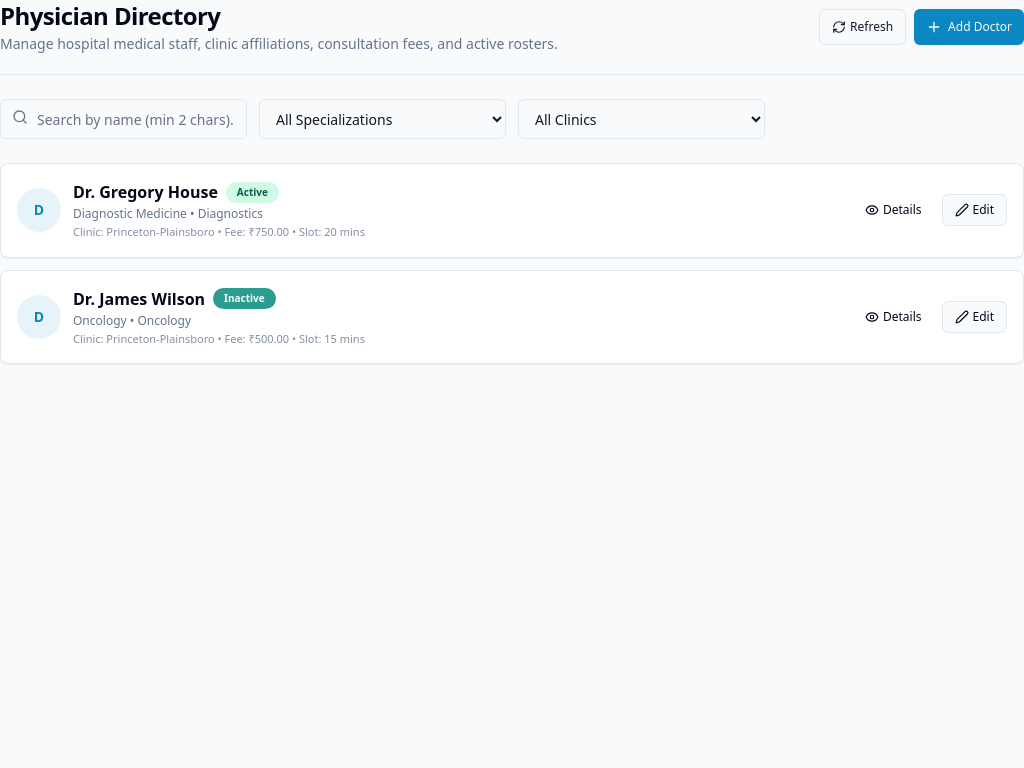
Test: DoctorsPage Management › opens provision doctor dialog with required form fields
Click the button with aria-label "add new doctor".
click(969, 27)  # box x1=914 y1=9 x2=1023 y2=45
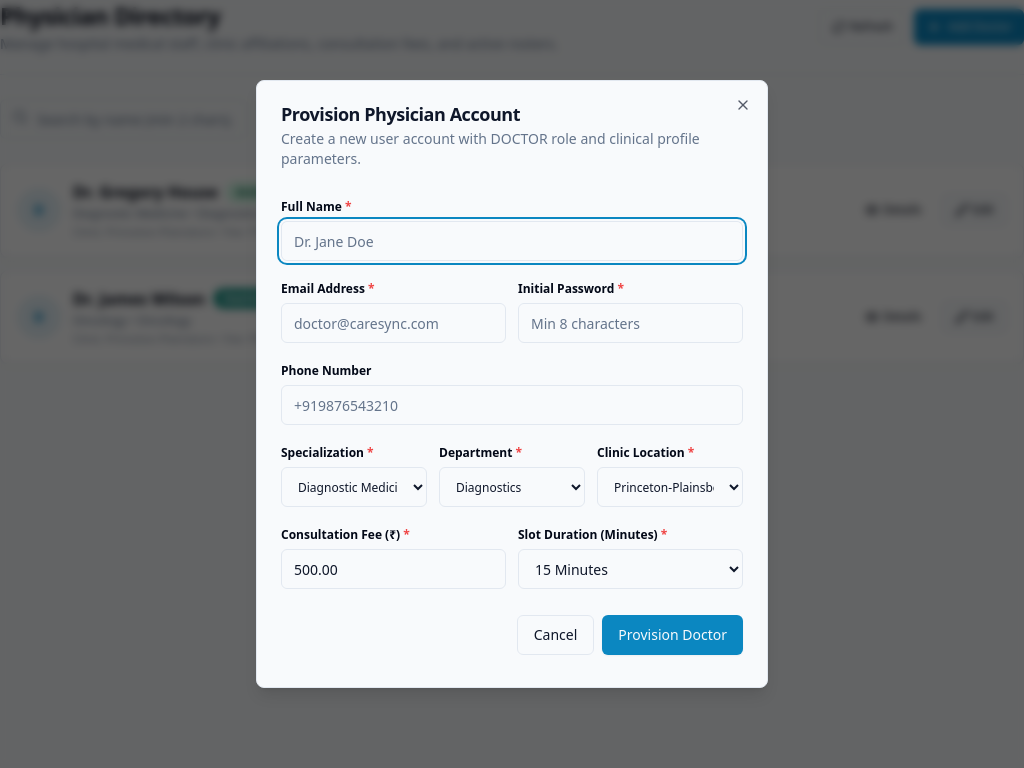
Now the heading "Provision Physician Account" is shown, box x1=281 y1=102 x2=520 y2=126
Now the field with placeholder "Dr. Jane Doe" is shown, box x1=281 y1=221 x2=743 y2=261
Now the field with placeholder "doctor@caresync.com" is shown, box x1=281 y1=303 x2=506 y2=343
